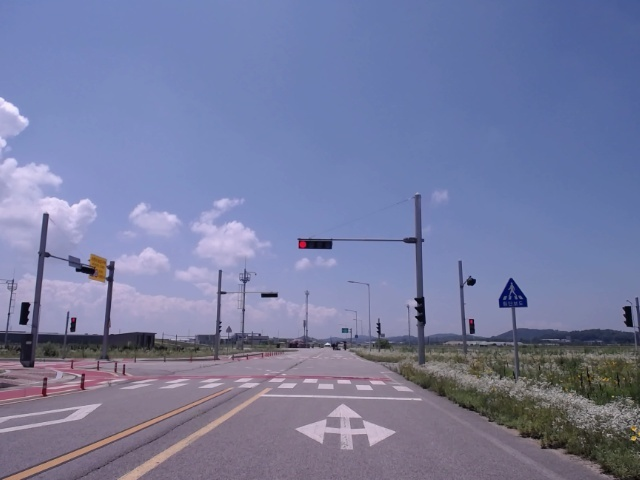red_4: (299, 240, 332, 249)
